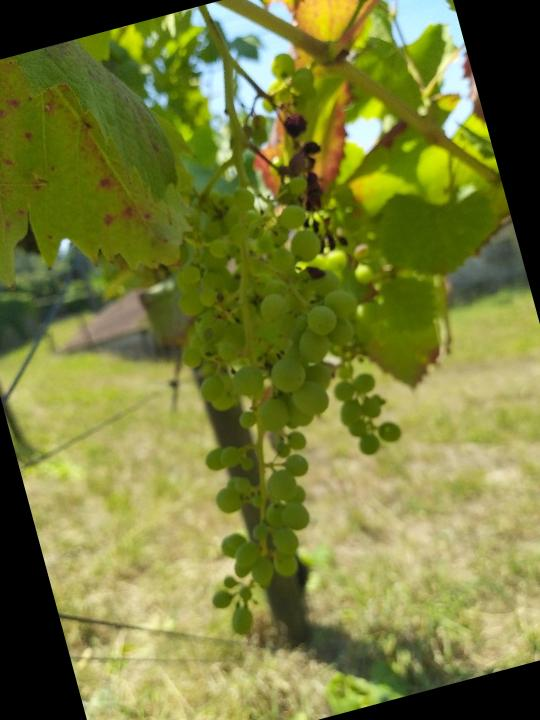grape: (107, 158, 432, 643)
